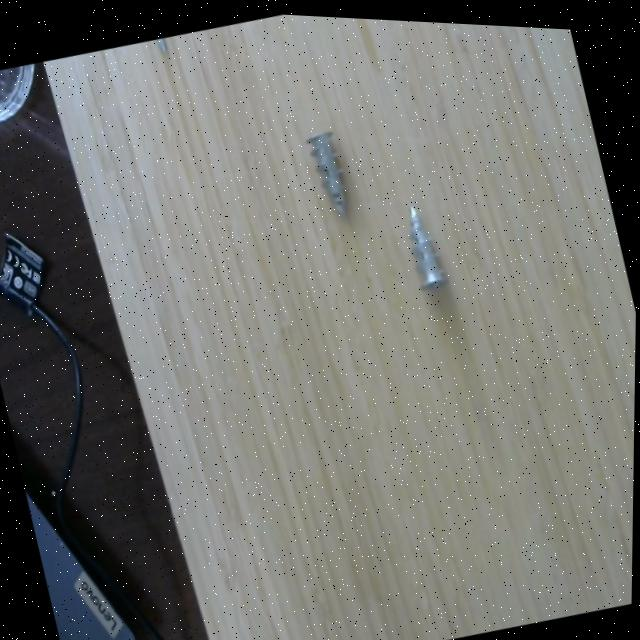Short screw: (401, 193, 453, 293), (302, 119, 353, 216)
